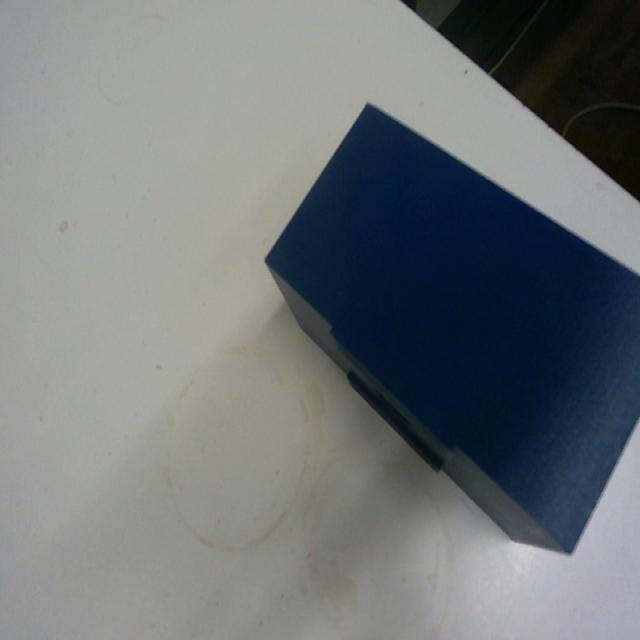Blue Cuboid: (263, 99, 639, 556)
